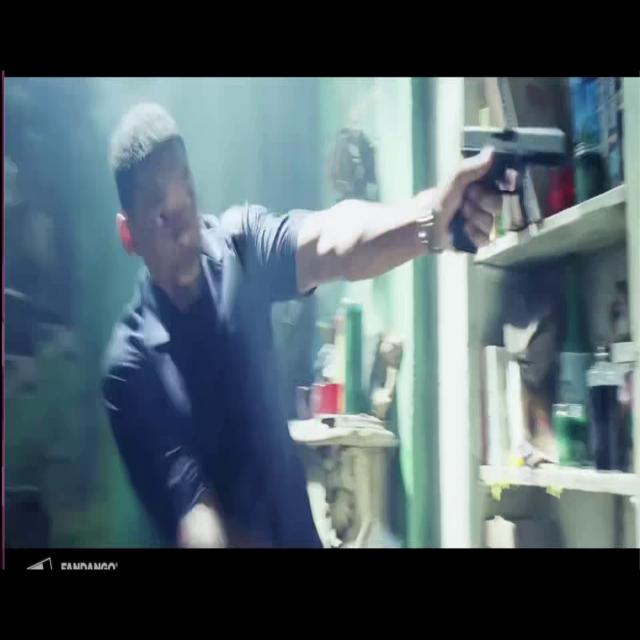weapons: (444, 117, 570, 260)
